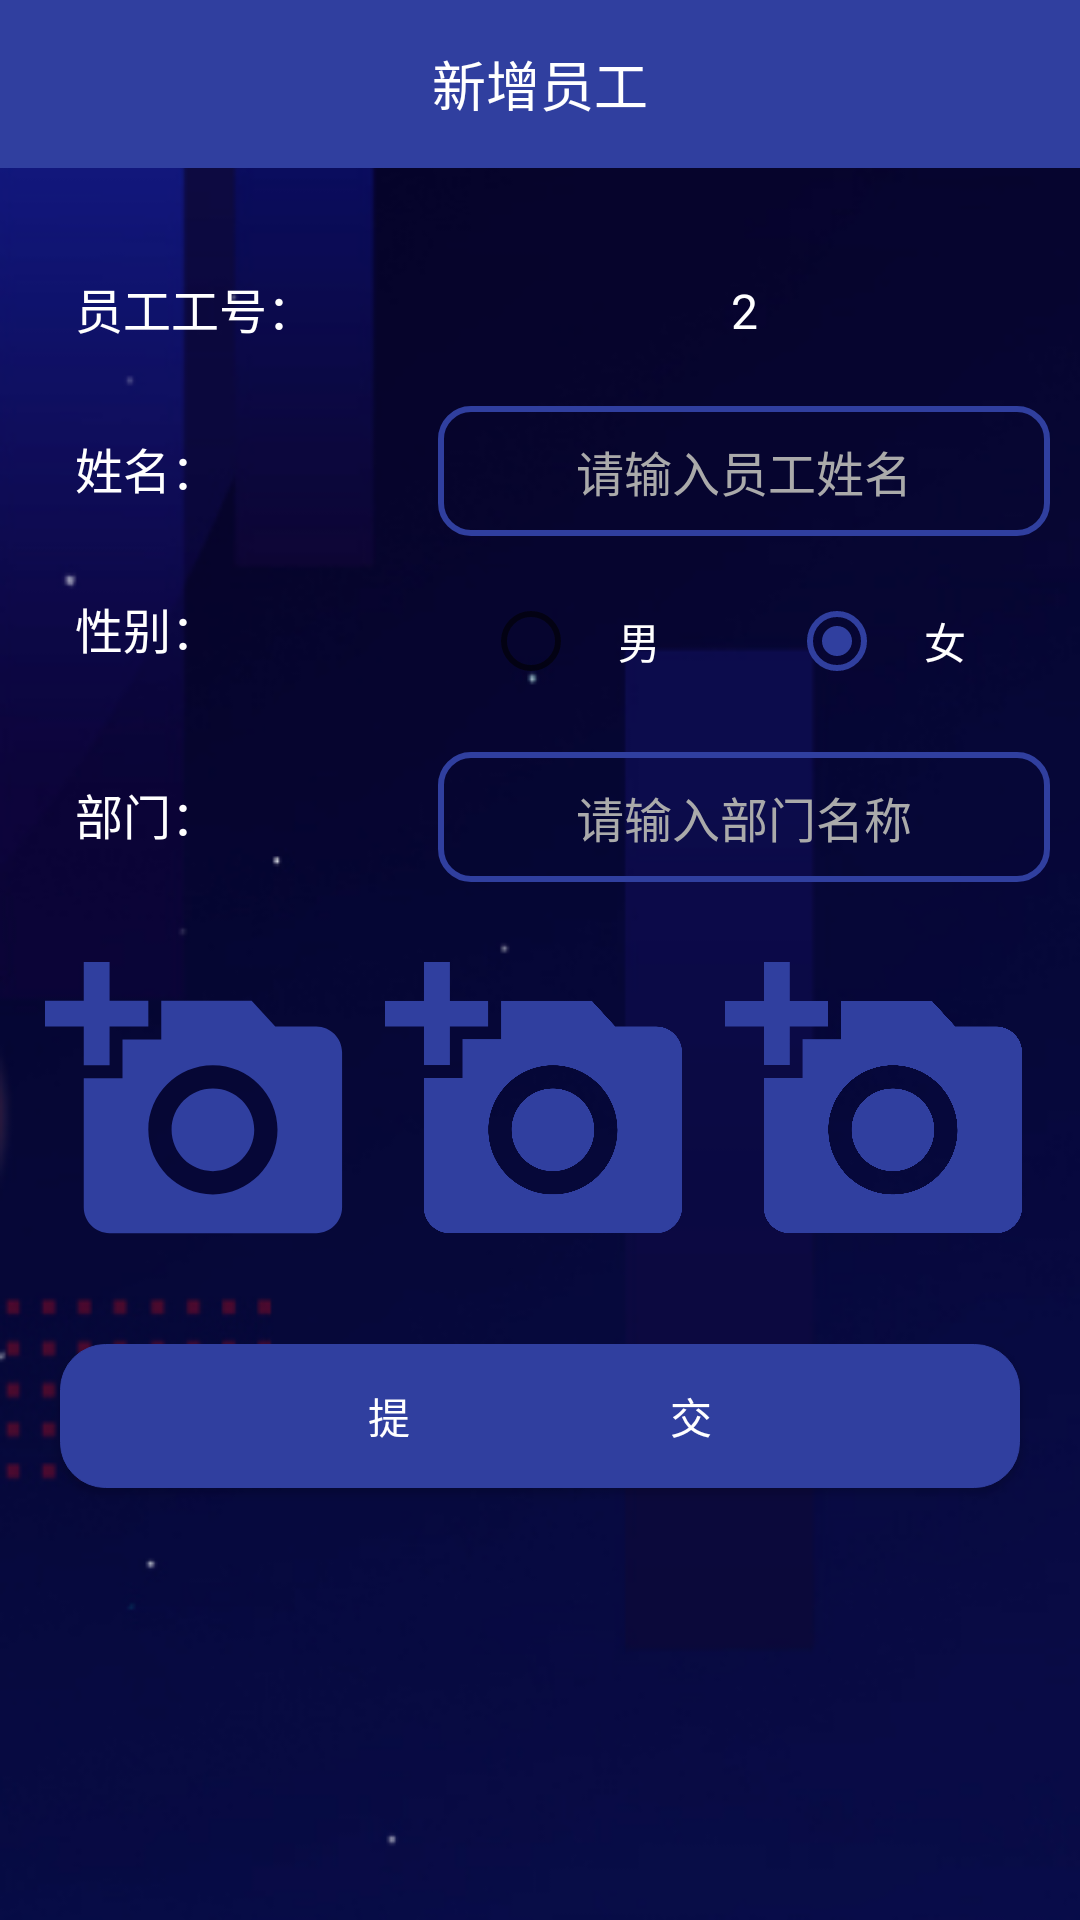

Screen size 1080 x 1920. Icon name, then its box in pixels as (x1, y1, x2, y2):
add photo: (385, 945, 682, 1233), (45, 962, 342, 1234), (725, 962, 1022, 1233)
